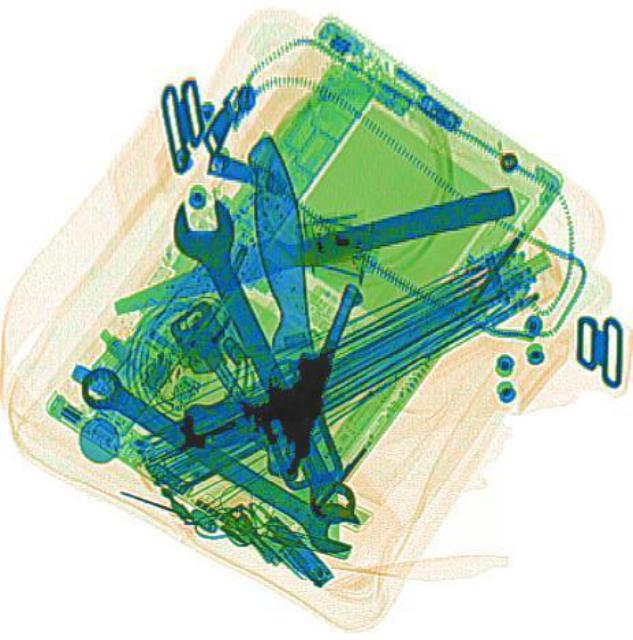Gun: (171, 247, 368, 478)
Knife: (107, 181, 516, 315), (244, 130, 319, 477)
Wrench: (157, 186, 370, 530), (66, 355, 367, 561)
